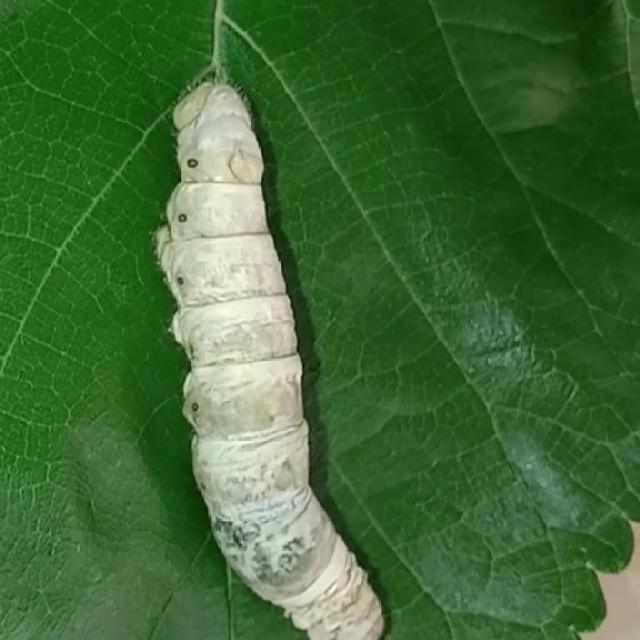Grasserie: (125, 51, 449, 640)
